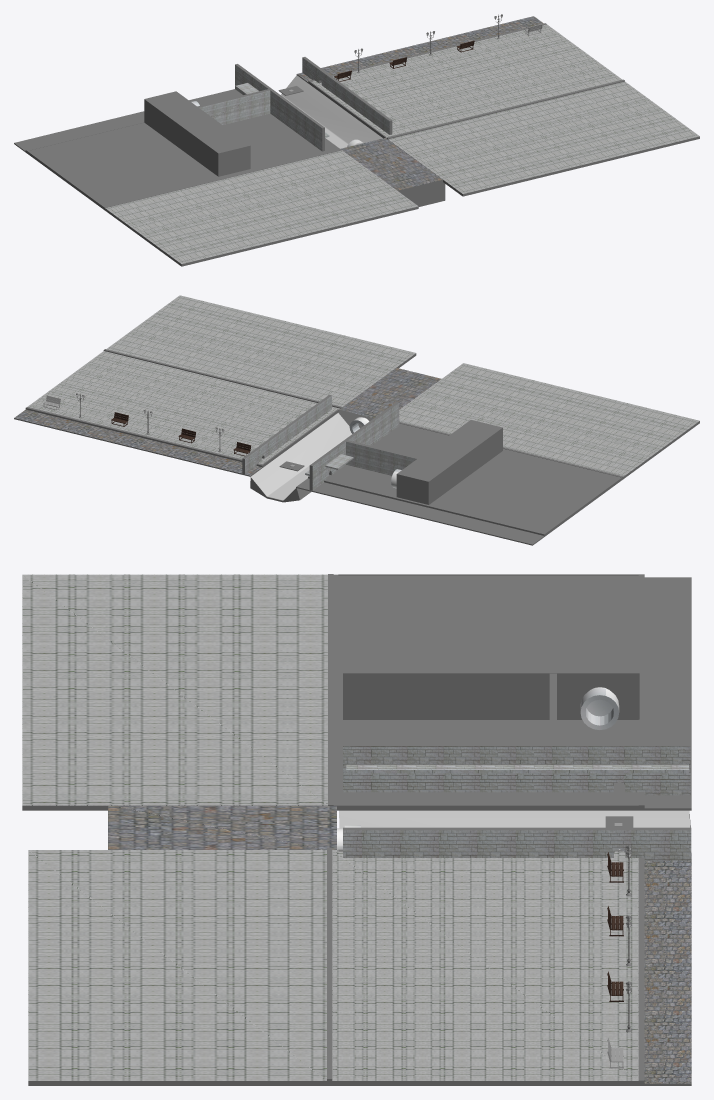
File: Chapter 1_city.fbx
3 renders of one model, top to bottom at view 1: azimuth 30°, elevation 25°; view 2: azimuth 150°, elevation 25°; view 3: azimuth 270°, elevation 25°, orthographic. The views are drawn at different scales.
Parts seen in each view (by area): view 1: Floor, pCube15, polySurface1, pCube12, polySurface2; view 2: Floor, pCube15, polySurface1, polySurface2, pCube12; view 3: Floor, pCube15, polySurface1, polySurface2, pCube16, pCylinder12.
Boxes of the visible parts, x1=… form: Floor: x1=14, y1=16, x2=699, y2=266; pCube15: x1=144, y1=91, x2=250, y2=176; polySurface1: x1=235, y1=64, x2=324, y2=151; pCube12: x1=197, y1=89, x2=270, y2=124; polySurface2: x1=302, y1=57, x2=392, y2=134; Floor: x1=14, y1=295, x2=699, y2=545; pCube15: x1=396, y1=420, x2=502, y2=504; polySurface1: x1=309, y1=402, x2=399, y2=490; polySurface2: x1=242, y1=395, x2=331, y2=474; pCube12: x1=346, y1=440, x2=418, y2=475; Floor: x1=22, y1=574, x2=691, y2=1085; pCube15: x1=343, y1=642, x2=639, y2=719; polySurface1: x1=343, y1=743, x2=690, y2=795; polySurface2: x1=343, y1=827, x2=691, y2=860; pCube16: x1=346, y1=764, x2=688, y2=773; pCylinder12: x1=580, y1=687, x2=619, y2=729.
Bounding box in the file's own units: 162 × 13.57 × 90.34.
